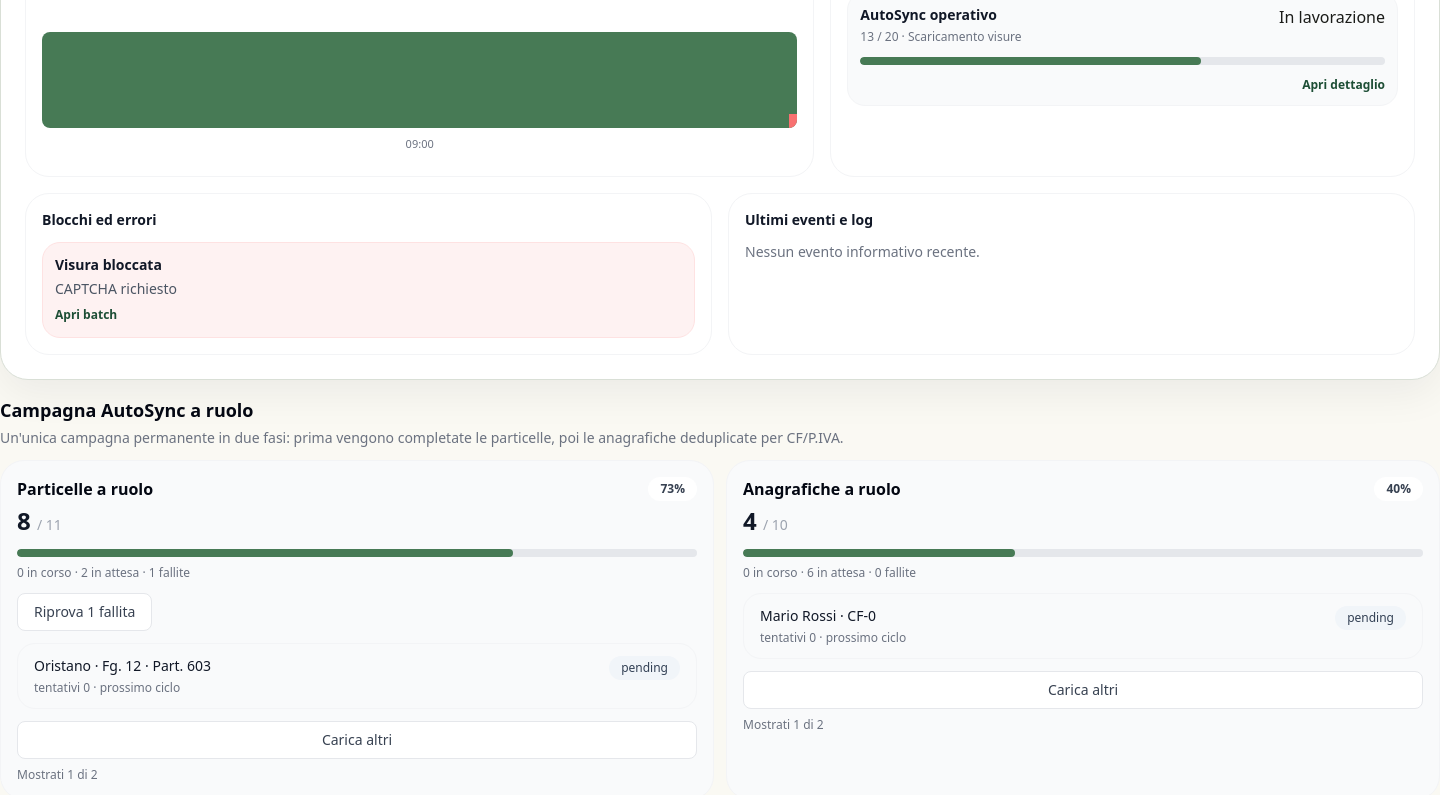
Test: ElaborazioneRequestWorkspace continuous sync › loads complete campaign lists progressively
(page scrolled)
Check: the text "Oristano · Fg. 12 · Part. 603" is shown, box [34,656,211,676]
Click the button "Carica altri" below "Oristano · Fg. 12 · Part. 603": (357,740) [17,721,697,759]
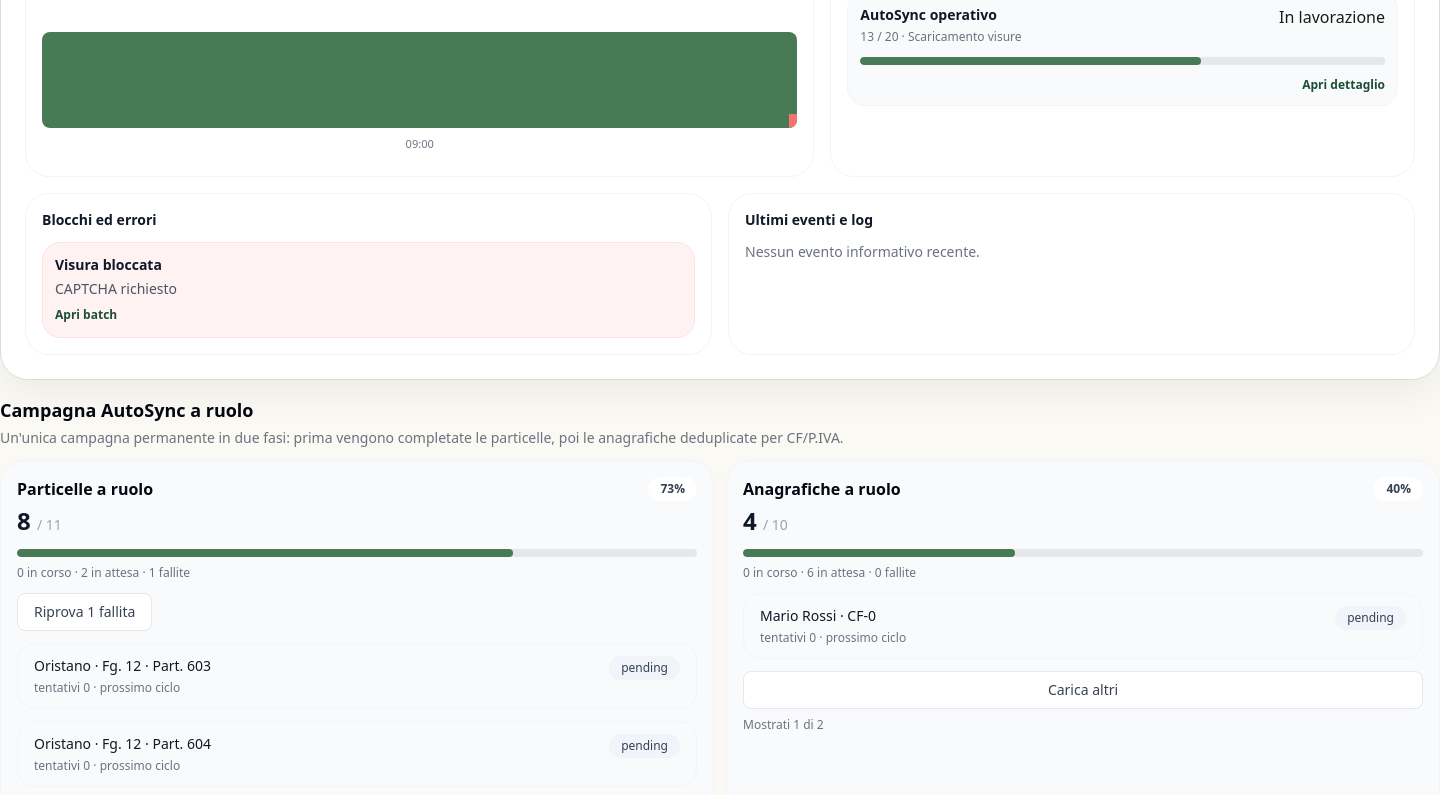
Check: the text "Oristano · Fg. 12 · Part. 604" is shown, box [34,734,211,754]
